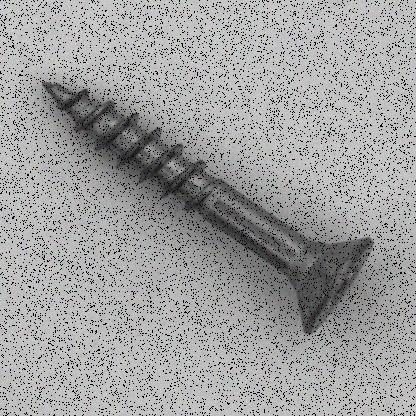metal: (41, 79, 373, 334)
